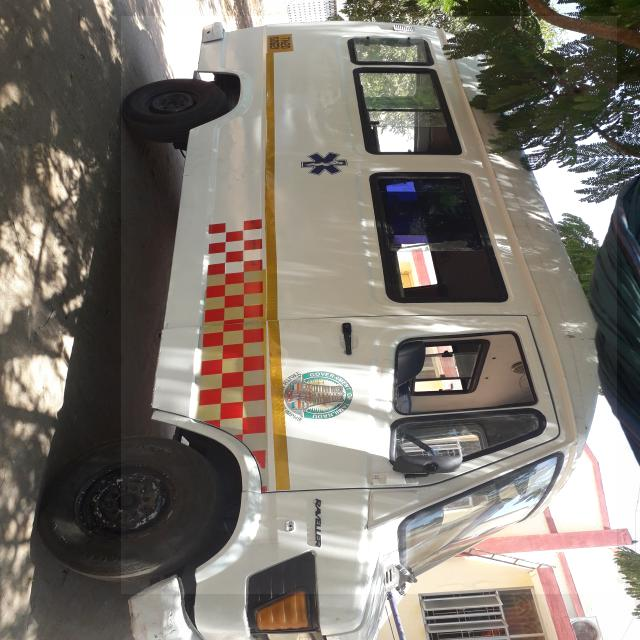Travller: (121, 16, 617, 594)
